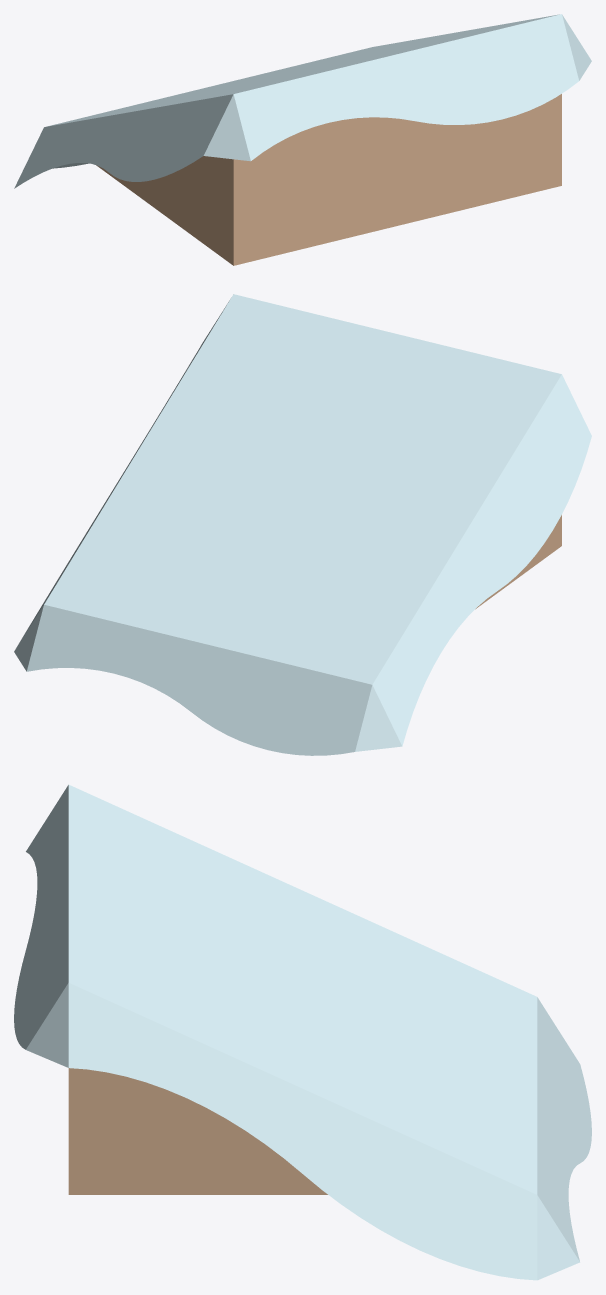
The model's file is blockSnowSlopeHalf.glb.
3 renders of one model, top to bottom at view 1: azimuth 30°, elevation 25°; view 2: azimuth 150°, elevation 25°; view 3: azimuth 270°, elevation 25°, orthographic. The views are drawn at different scales.
Parts seen in each view (by area): view 1: blockSnowSlopeHalf; view 2: blockSnowSlopeHalf; view 3: blockSnowSlopeHalf.
Boxes of the visible parts, x1,y1,x2,y2 form: blockSnowSlopeHalf: [14, 14, 591, 265]; blockSnowSlopeHalf: [14, 294, 591, 755]; blockSnowSlopeHalf: [14, 784, 591, 1280].
Size of the model in its own units: 1.23 by 0.7018 by 1.23.
